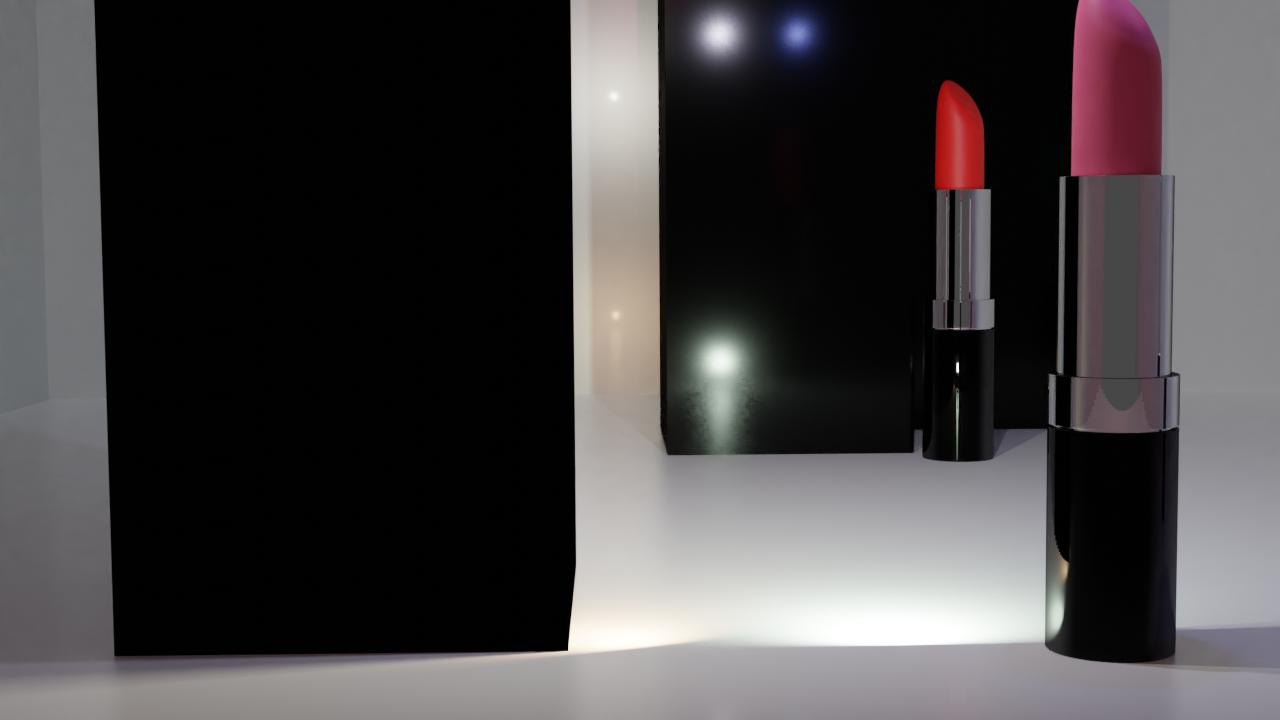CLASSIFIER_NAME: (1042, 0, 1184, 673), (921, 76, 997, 462)
